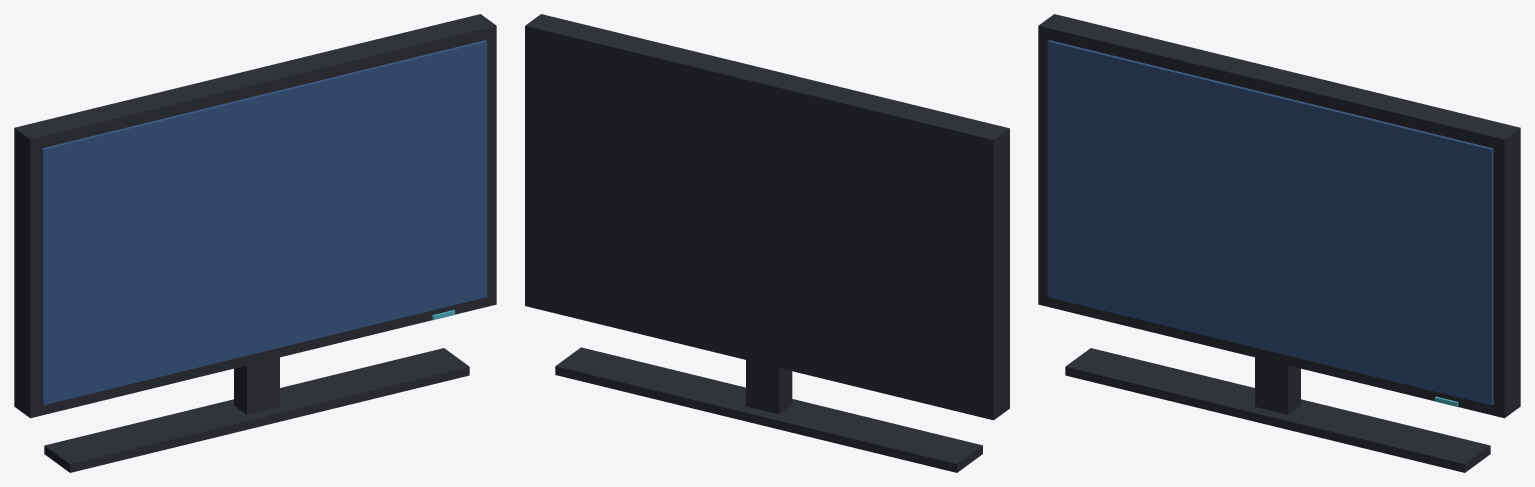
3 views of the same model, side by side, from view 1: azimuth 30°, elevation 25°; view 2: azimuth 150°, elevation 25°; view 3: azimuth 330°, elevation 25° (orthographic).
Visible parts, largest first — view 1: tv_mesh; view 2: tv_mesh; view 3: tv_mesh.
Part boxes in pixels (x1,y1,x2,y2): tv_mesh: (14,14,496,472); tv_mesh: (525,14,1009,472); tv_mesh: (1038,14,1520,472).
Bounding box in the file's own units: 0.84 × 0.58 × 0.08.
1 material, 1 textured.
